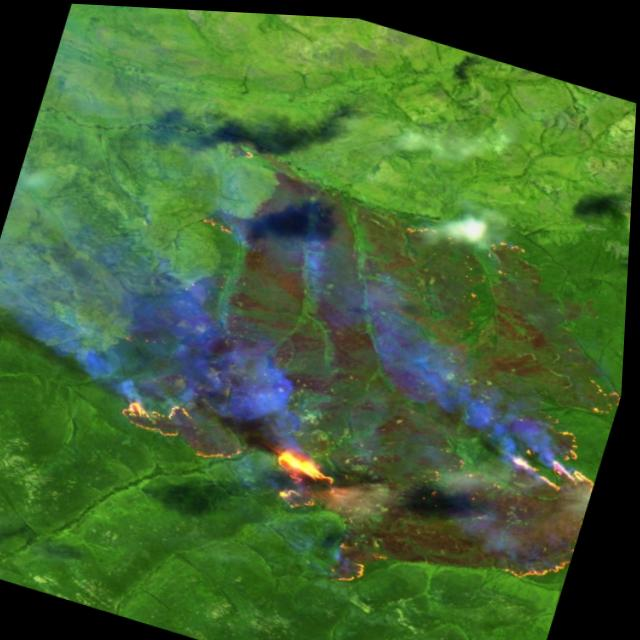fire: (86, 129, 635, 640)
